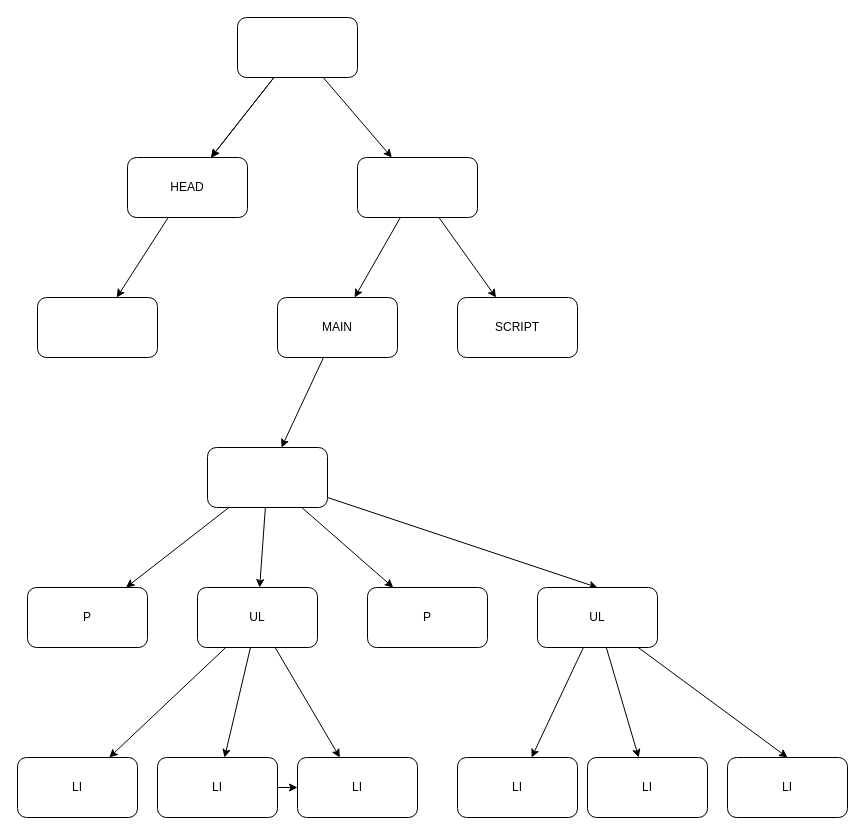
Image size: 865x835. Some labels were removed from this diagram. The shapes that lost their labels are listed below. From the top down, each one's centre as x and y in pixels, then its label:
(x=297, y=47): HTML
(x=417, y=187): BODY
(x=97, y=327): LINK
(x=267, y=477): SECTION
